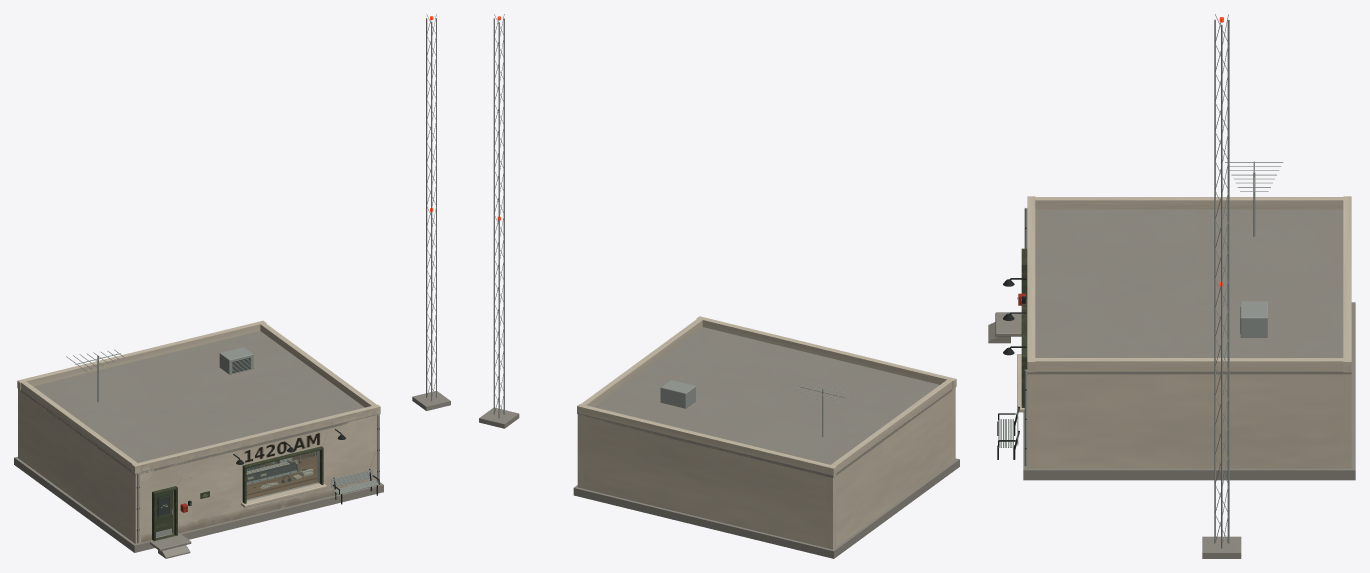
The model's file is 1420_AM_station.glb.
3 renders of one model, left to right at view 1: azimuth 30°, elevation 25°; view 2: azimuth 150°, elevation 25°; view 3: azimuth 270°, elevation 25°, orthographic. The views are drawn at different scales.
Visible parts, largest first — view 1: SM_1420_Shell, SM_1420_Mast, SM_1420_Glass, SM_1420_Interior, SM_1420_Door; view 2: SM_1420_Shell, SM_1420_Mast; view 3: SM_1420_Shell, SM_1420_Mast.
Part boxes in pixels (x1=…): SM_1420_Shell: x1=14, y1=320, x2=383, y2=558; SM_1420_Mast: x1=412, y1=14, x2=450, y2=410; SM_1420_Glass: x1=246, y1=451, x2=319, y2=500; SM_1420_Interior: x1=246, y1=451, x2=317, y2=499; SM_1420_Door: x1=156, y1=490, x2=172, y2=537; SM_1420_Shell: x1=573, y1=316, x2=959, y2=558; SM_1420_Mast: x1=479, y1=14, x2=519, y2=428; SM_1420_Shell: x1=988, y1=161, x2=1355, y2=480; SM_1420_Mast: x1=1202, y1=14, x2=1241, y2=558.
Size of the model in its own units: 18.73 by 18.6 by 11.32.
Materials: 25 (9 with a texture image).
